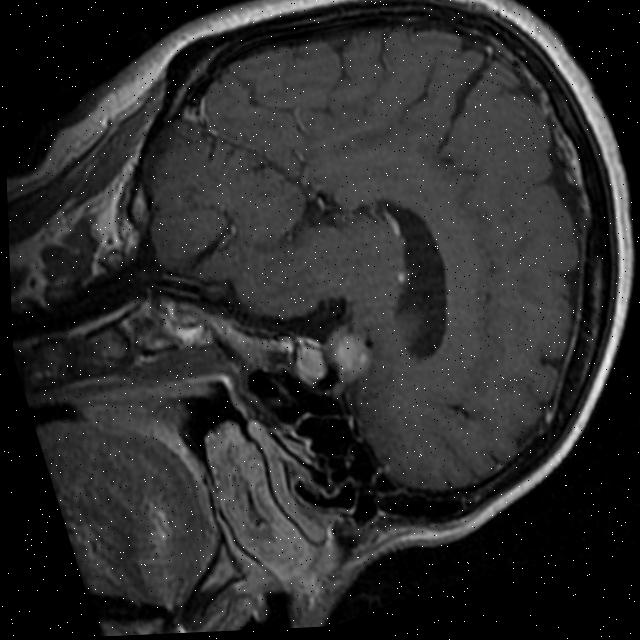Pituitary: (283, 313, 383, 397)
